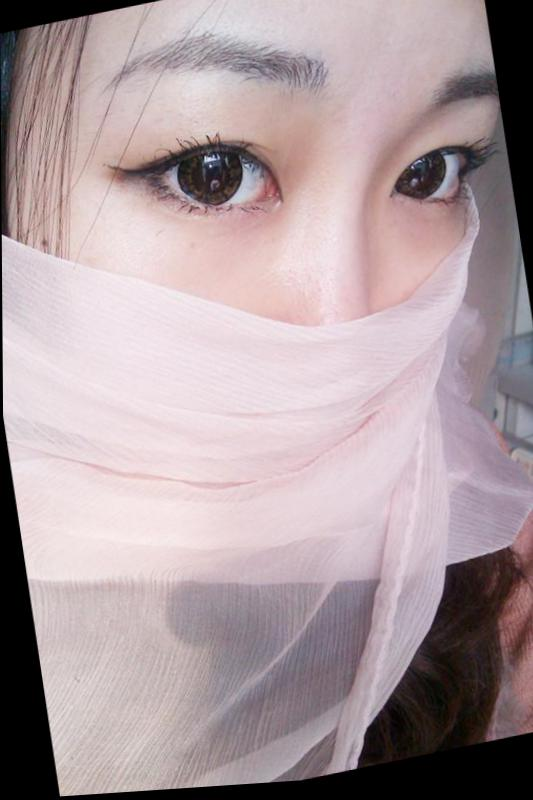WRONG: (16, 1, 533, 553)
